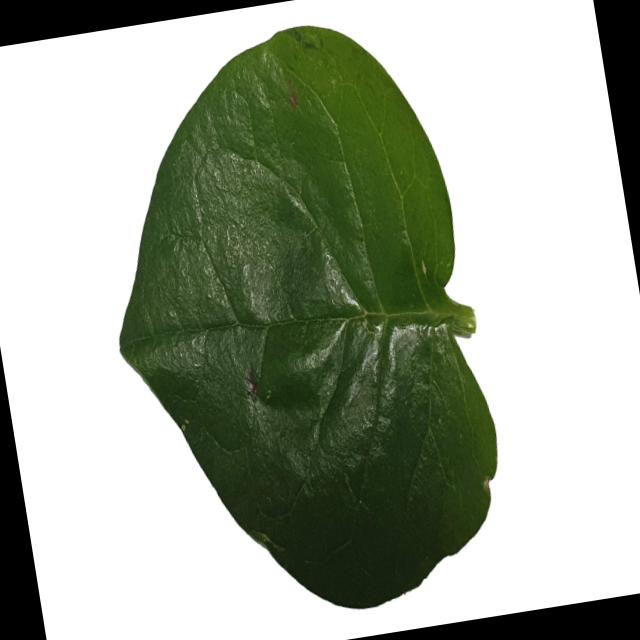Medicinal-Basale: (73, 4, 521, 640)
